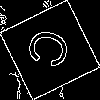C: (25, 25, 80, 75)
